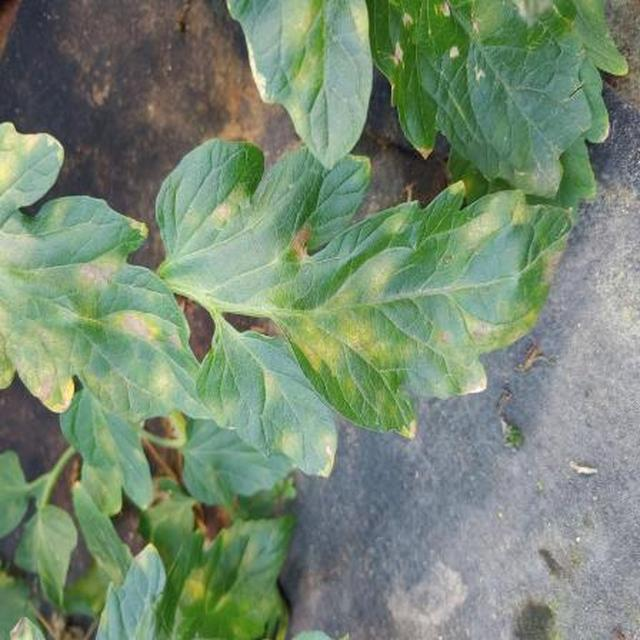Leaf Mold: (152, 217, 599, 578)
